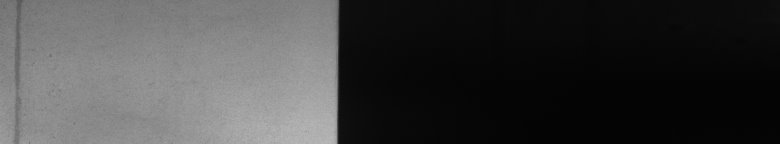hd: (12, 4, 24, 136)
